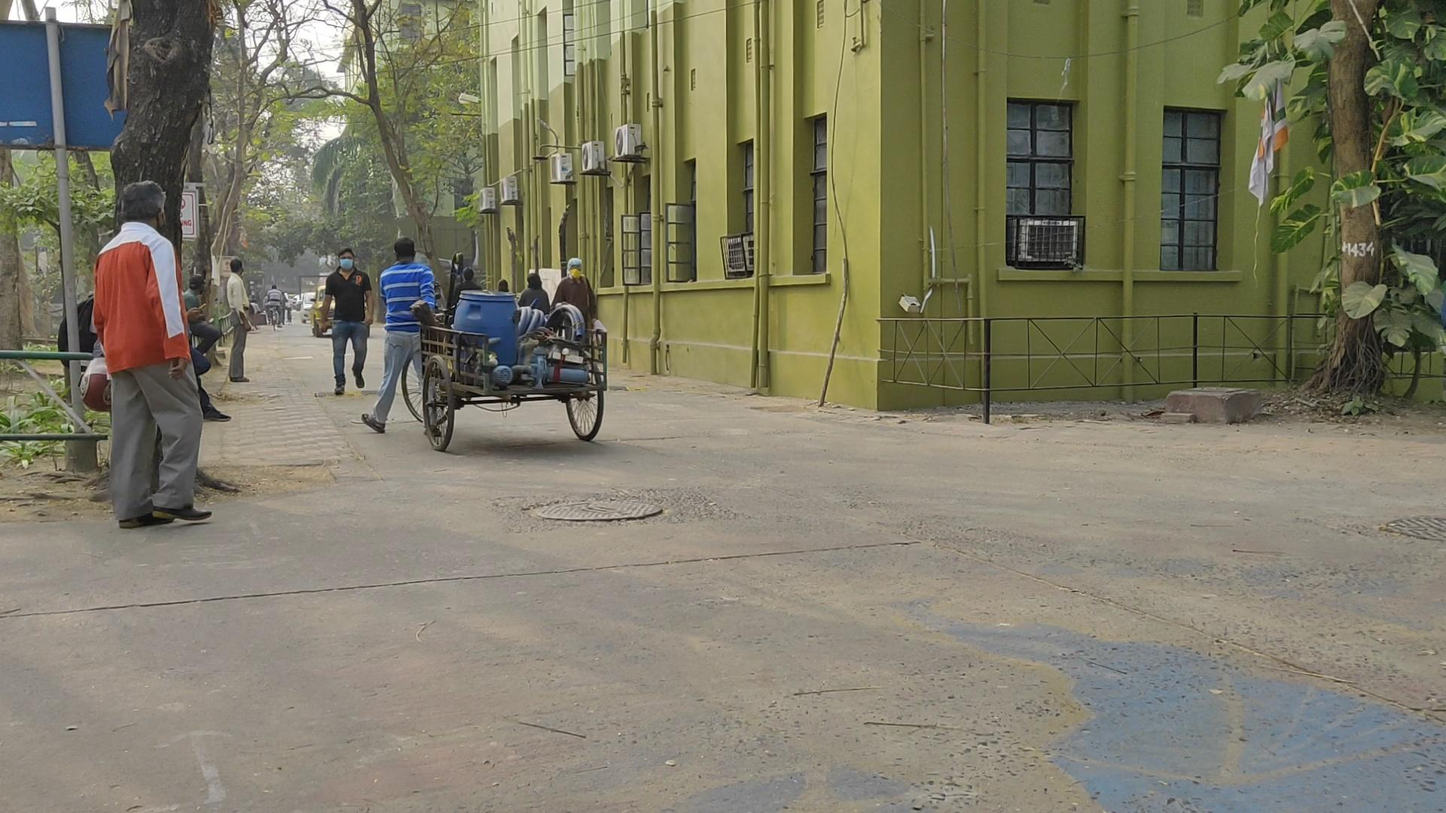bike: (264, 284, 283, 331)
car: (310, 285, 371, 339)
